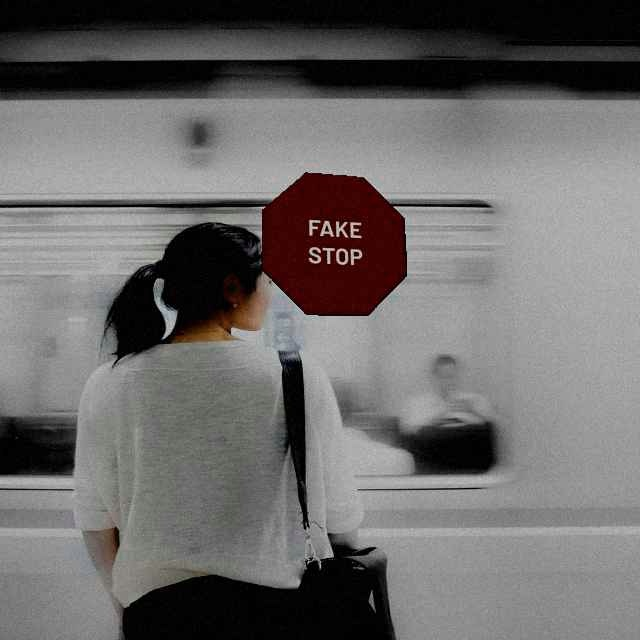FAKE_STOP: (261, 172, 407, 316)
